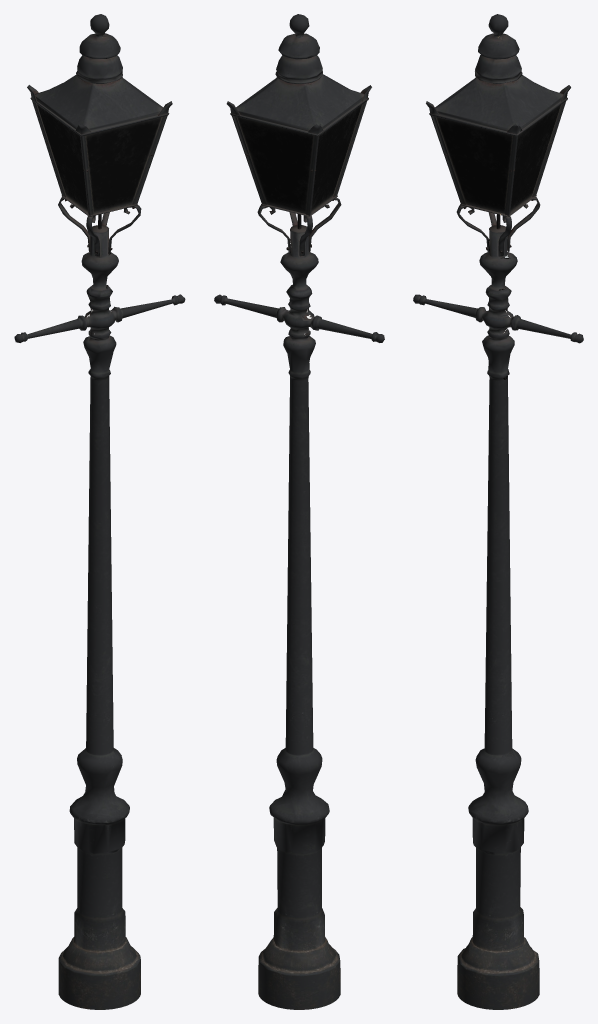
Rendered from la-street-lamp-lod.glb.
The picture shows the model from 3 angles, left to right: view 1: azimuth 30°, elevation 25°; view 2: azimuth 150°, elevation 25°; view 3: azimuth 330°, elevation 25°; orthographic projection.
Visible parts, largest first — view 1: street_lamp_01; view 2: street_lamp_01; view 3: street_lamp_01.
Part boxes in pixels (x1,y1,x2,y2): street_lamp_01: (14,14,185,1009); street_lamp_01: (214,14,384,1009); street_lamp_01: (413,14,583,1009).
Bounding box in the file's own units: 0.7043 × 3.87 × 0.3865.
2 materials, 2 textured.
